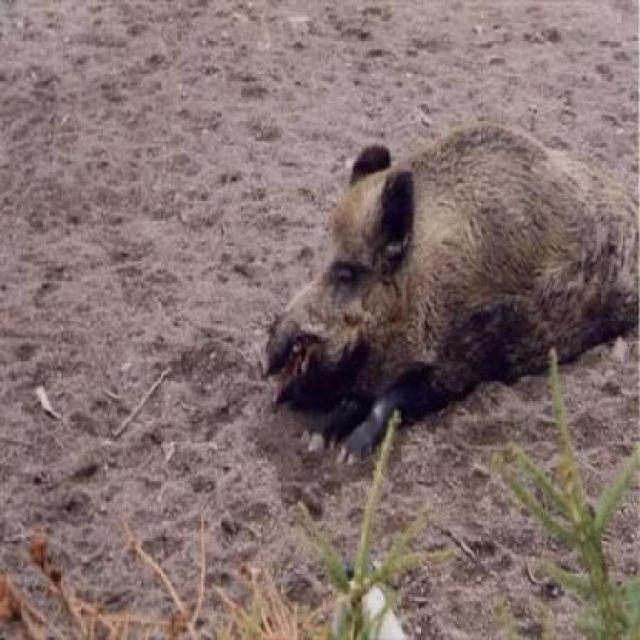pig: (263, 111, 627, 427)
